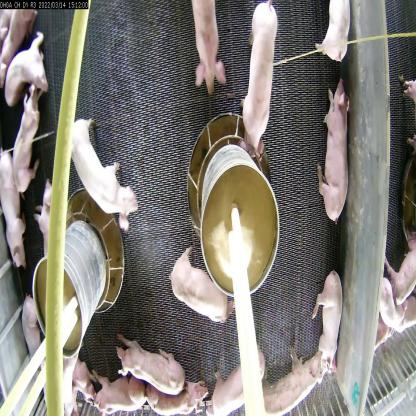Pig: (66, 102, 144, 231), (168, 246, 240, 331), (240, 0, 277, 156), (211, 340, 276, 415), (113, 336, 190, 397), (319, 82, 349, 227), (255, 352, 322, 415), (183, 0, 227, 95), (309, 271, 348, 376), (8, 82, 43, 195), (0, 144, 27, 280), (4, 32, 49, 100), (92, 377, 154, 415), (144, 382, 208, 416), (38, 167, 60, 252), (21, 282, 43, 343)
